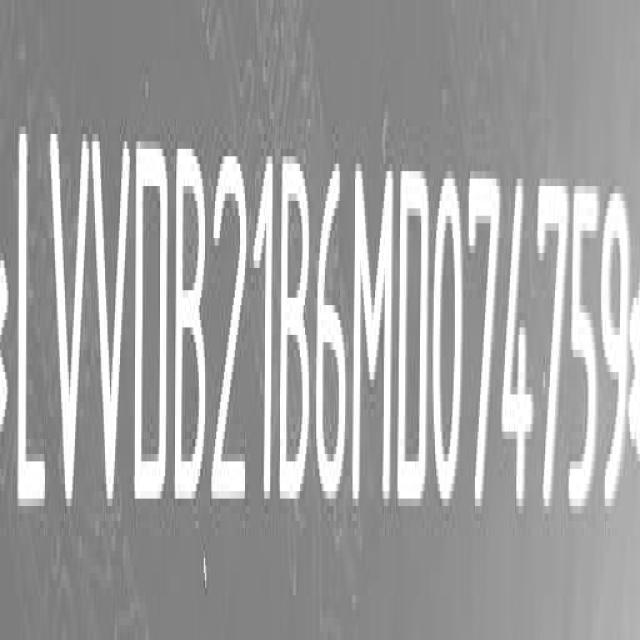0: (433, 164, 463, 516)
1: (255, 149, 277, 514)
2: (213, 149, 249, 515)
4: (504, 168, 534, 524)
5: (567, 176, 598, 522)
6: (316, 156, 348, 512)
7: (537, 170, 569, 520), (468, 164, 498, 523)
9: (601, 182, 632, 522)
B: (177, 142, 211, 514), (282, 151, 315, 512)
D: (132, 130, 170, 514), (398, 168, 432, 515)
L: (16, 120, 47, 525)
M: (352, 161, 392, 514)
V: (47, 120, 88, 522), (92, 124, 132, 519)
